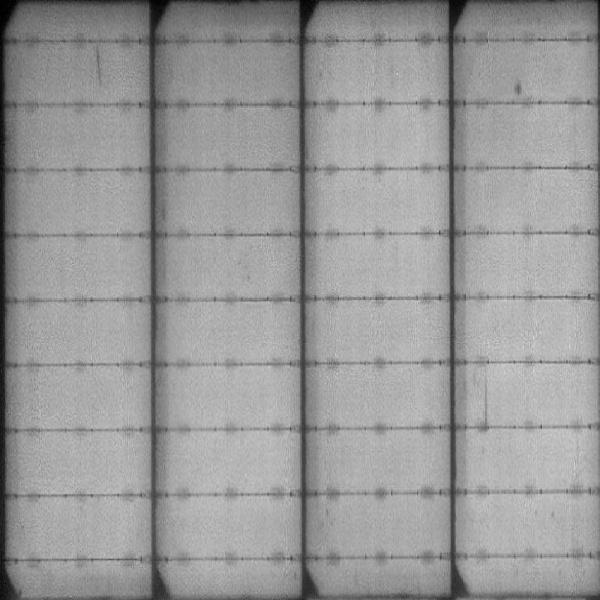scratch: (481, 375, 492, 427), (94, 51, 101, 82)
